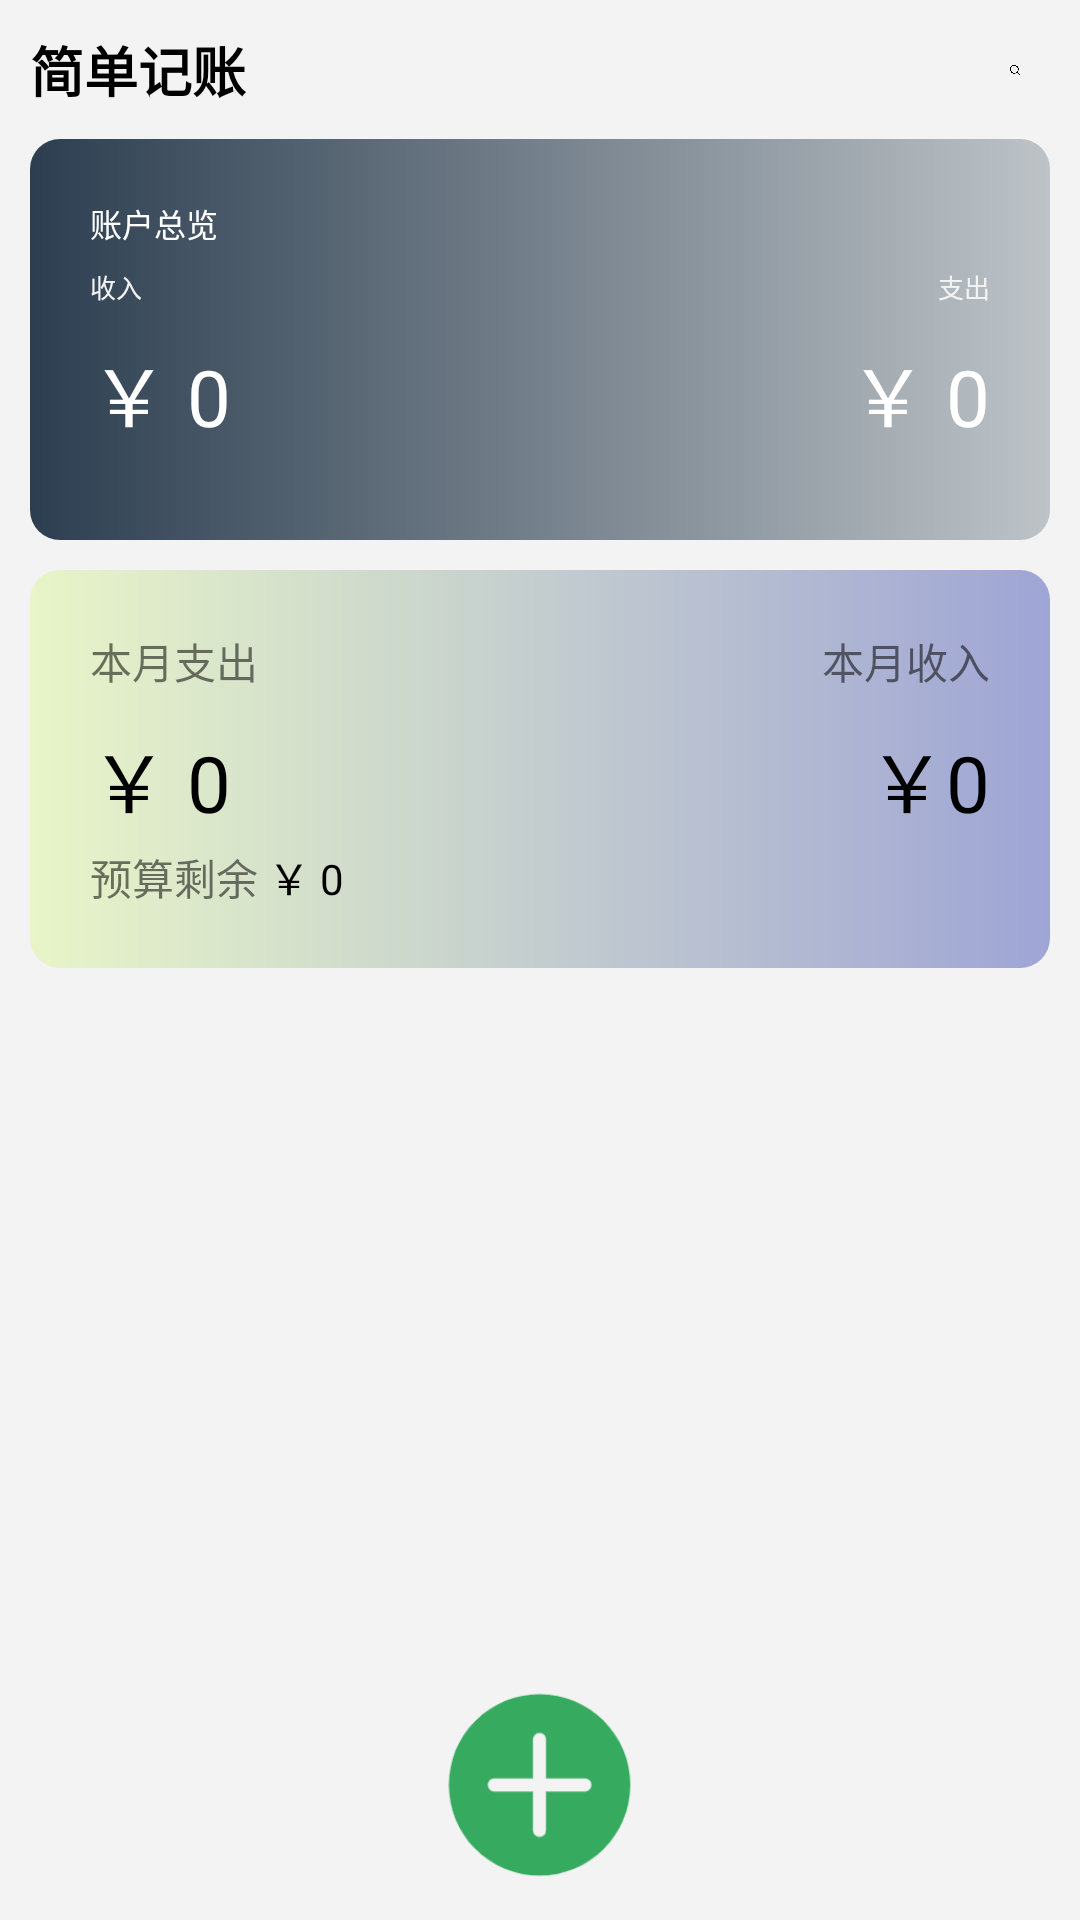

Icons on this 1080×1920 Android screen, each with the point to tap as (x,y):
add: (539,1784)
